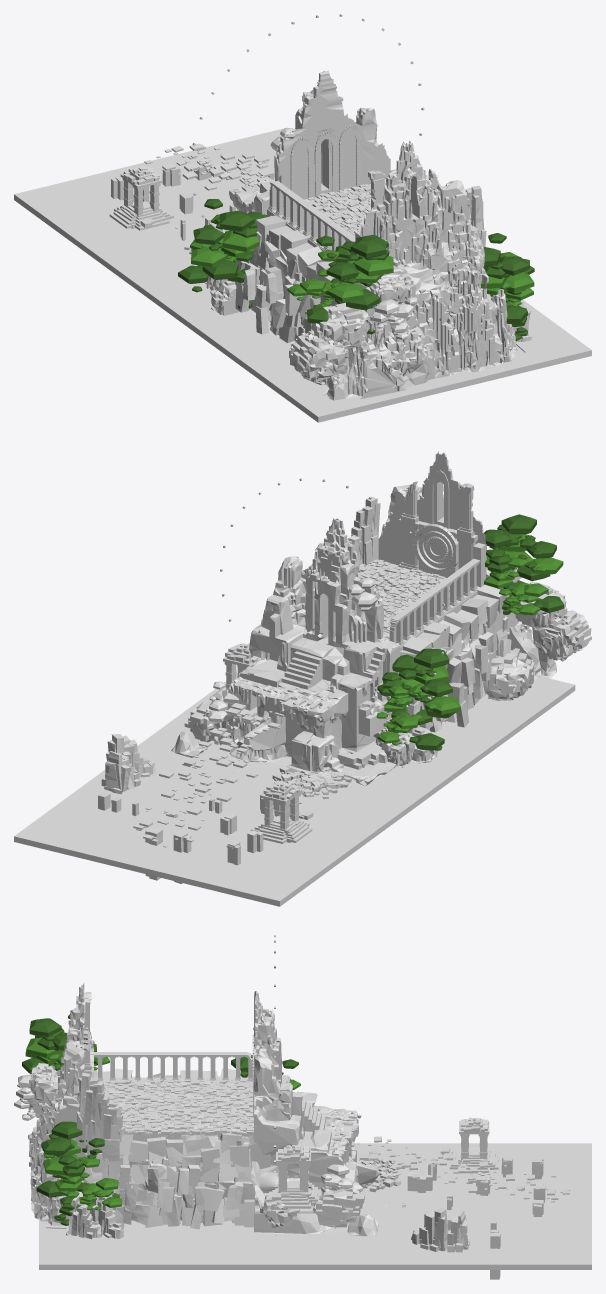
The model's file is 03.Aztec.fbx.
3 renders of one model, top to bottom at view 1: azimuth 30°, elevation 25°; view 2: azimuth 150°, elevation 25°; view 3: azimuth 270°, elevation 25°, orthographic. The views are drawn at different scales.
Parts seen in each view (by area): view 1: Temple.001, Water, 0.2_tree, 0.1_tree, 0.6_tree, Temple, Floor, Stones in water, 0.5_tree; view 2: Temple.001, Water, 0.2_tree, 0.1_tree, Floor, Stones in water, Temple, 0.1_rock, 0.4_tree, 0.3_tree; view 3: Temple.001, Water, Floor, 0.6_tree, Stones in water, 0.1_rock, 0.2_tree, Temple, 0.4_tree, 0.5_tree.
Part boxes in pixels (bbox=[...]): Temple.001: bbox=[184, 14, 531, 400]; Water: bbox=[14, 127, 591, 422]; 0.2_tree: bbox=[287, 234, 393, 334]; 0.1_tree: bbox=[178, 199, 267, 308]; 0.6_tree: bbox=[478, 233, 534, 340]; Temple: bbox=[109, 166, 173, 230]; Floor: bbox=[283, 179, 386, 246]; Stones in water: bbox=[111, 163, 273, 240]; 0.5_tree: bbox=[370, 297, 417, 340]; Temple.001: bbox=[171, 451, 591, 799]; Water: bbox=[14, 673, 575, 906]; 0.2_tree: bbox=[484, 514, 564, 615]; 0.1_tree: bbox=[376, 648, 460, 750]; Floor: bbox=[359, 559, 449, 640]; Stones in water: bbox=[98, 777, 313, 883]; Temple: bbox=[251, 782, 312, 843]; 0.1_rock: bbox=[101, 734, 155, 794]; 0.4_tree: bbox=[208, 681, 238, 724]; 0.3_tree: bbox=[348, 578, 377, 611]; Temple.001: bbox=[28, 935, 401, 1239]; Water: bbox=[39, 1143, 591, 1269]; Floor: bbox=[99, 1079, 253, 1137]; 0.6_tree: bbox=[36, 1121, 121, 1225]; Stones in water: bbox=[392, 1148, 545, 1279]; 0.1_rock: bbox=[410, 1208, 469, 1252]; 0.2_tree: bbox=[22, 1013, 109, 1075]; Temple: bbox=[449, 1117, 498, 1173]; 0.4_tree: bbox=[321, 1163, 362, 1192]; 0.5_tree: bbox=[14, 1074, 42, 1120].
Size of the model in its own units: 21998 by 22552 by 41835.
